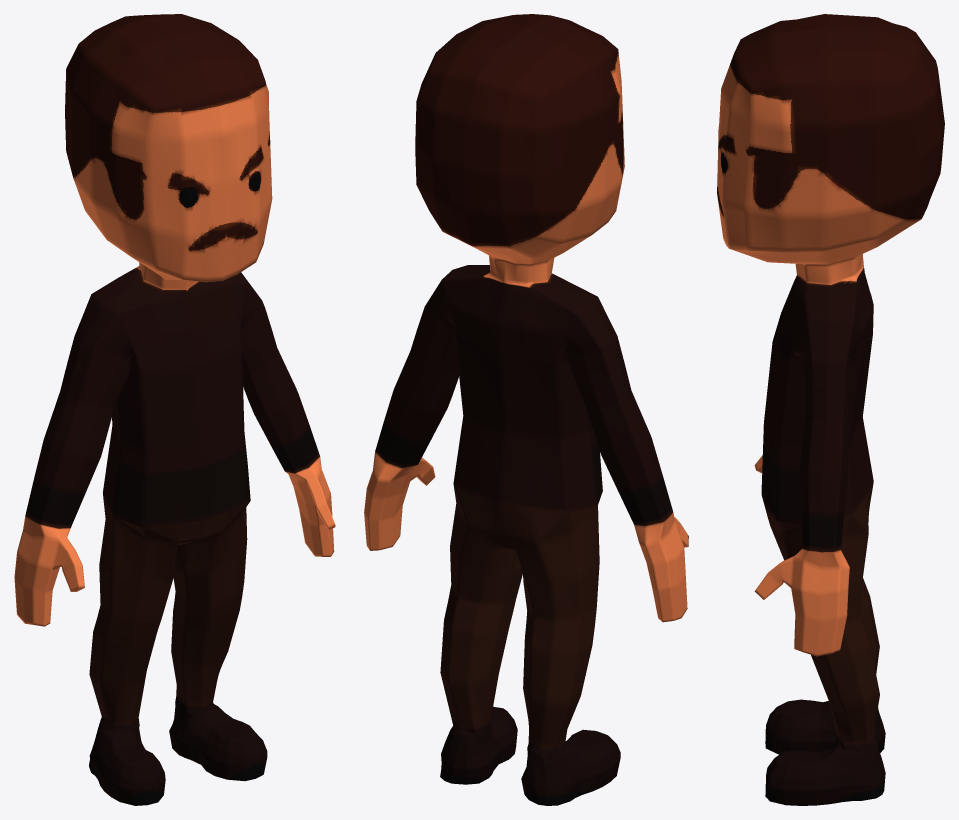
File: koerper.glb
3 renders of one model, left to right at view 1: azimuth 30°, elevation 25°; view 2: azimuth 150°, elevation 25°; view 3: azimuth 270°, elevation 25°, orthographic.
Parts seen in each view (by area): view 1: koerper; view 2: koerper; view 3: koerper.
Part boxes in pixels (x1,y1,x2,y2): koerper: [14, 14, 335, 805]; koerper: [364, 14, 688, 805]; koerper: [717, 14, 944, 805].
Size of the model in its own units: 0.7782 by 1.8 by 0.5011.
Materials: 1 (1 with a texture image).
